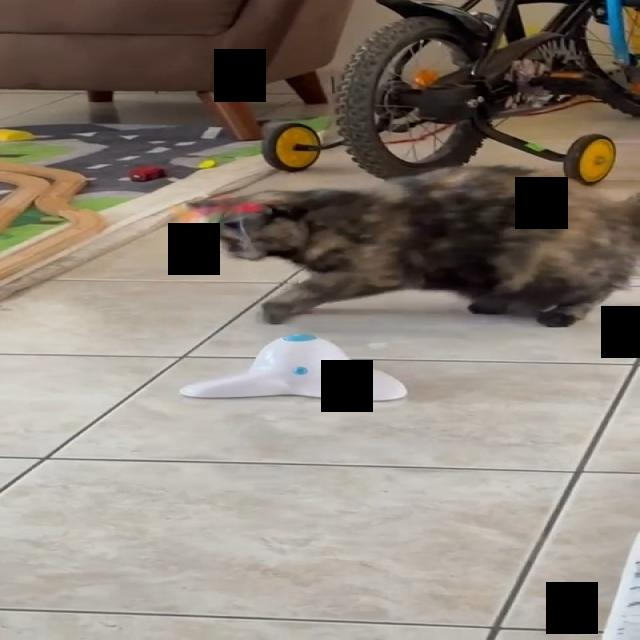authorized: (186, 163, 638, 328)
